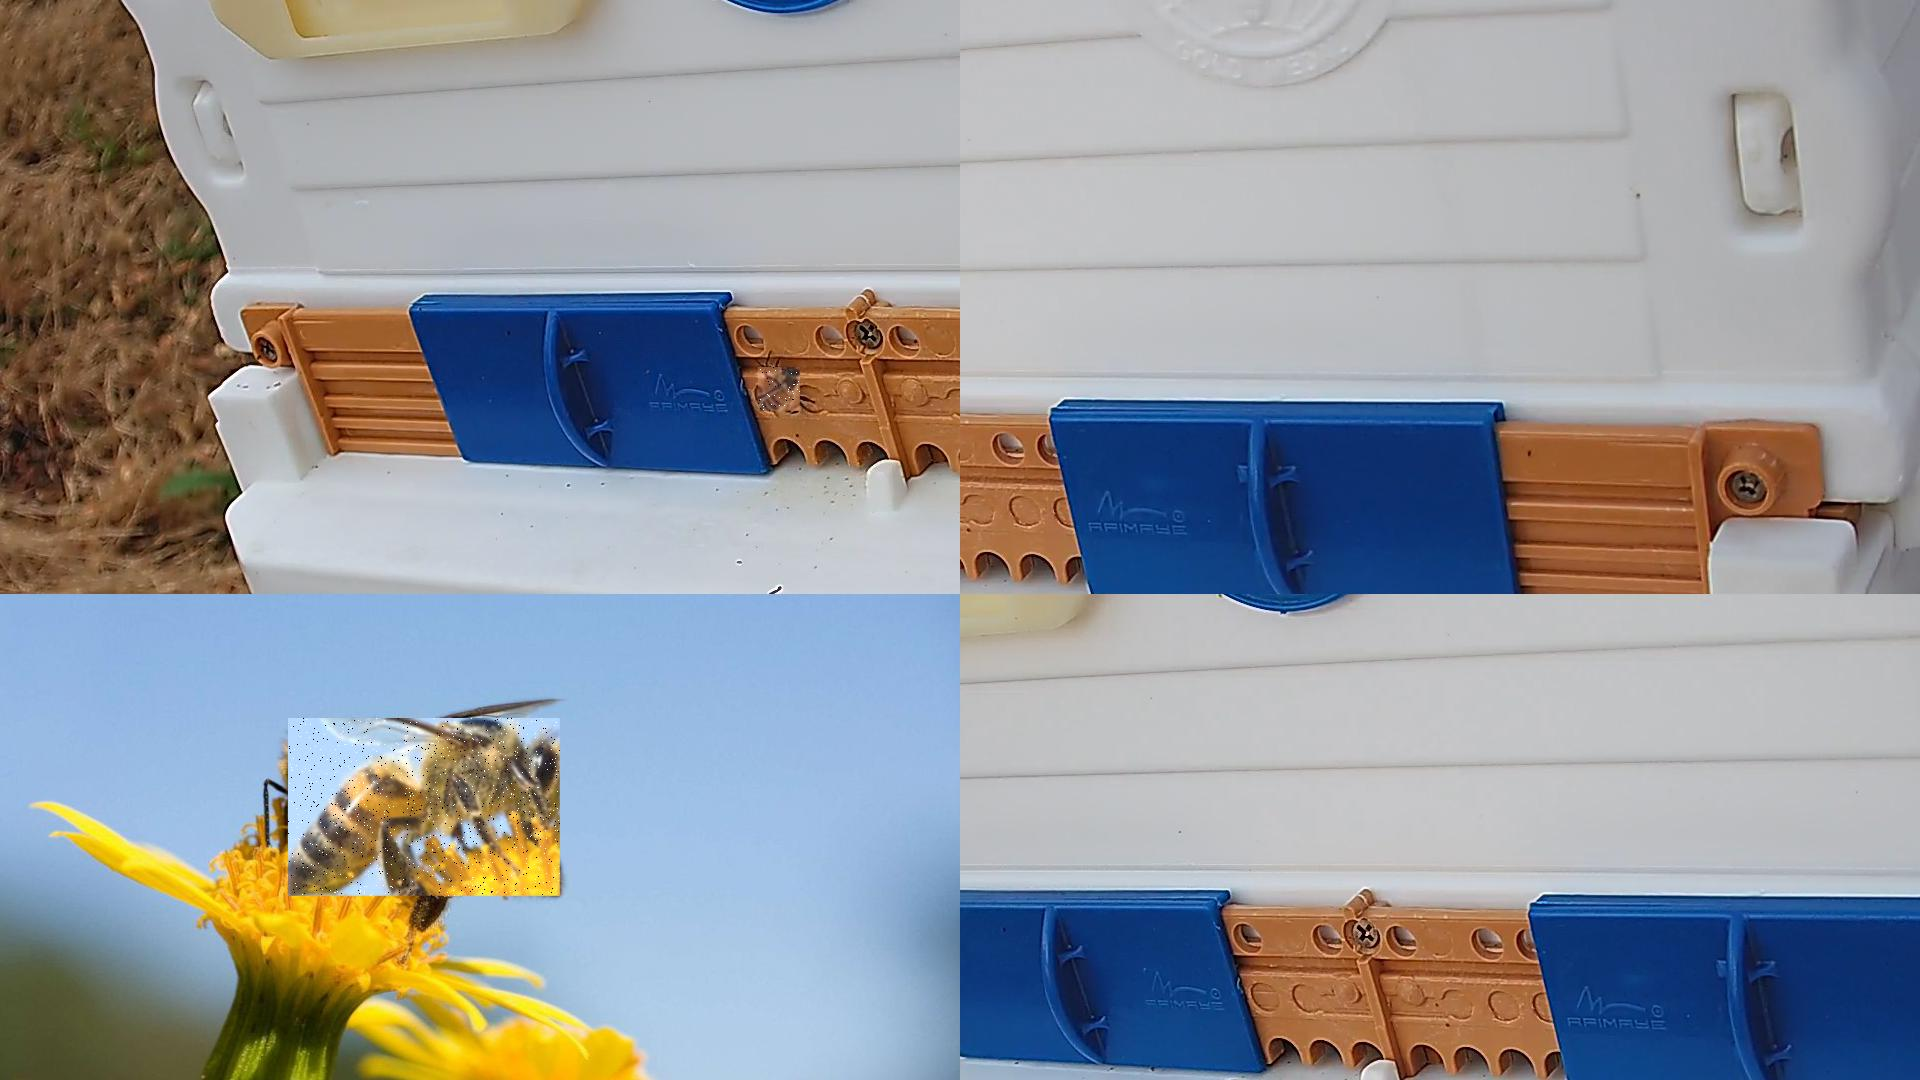bee: (289, 719, 562, 897), (758, 367, 800, 413)
